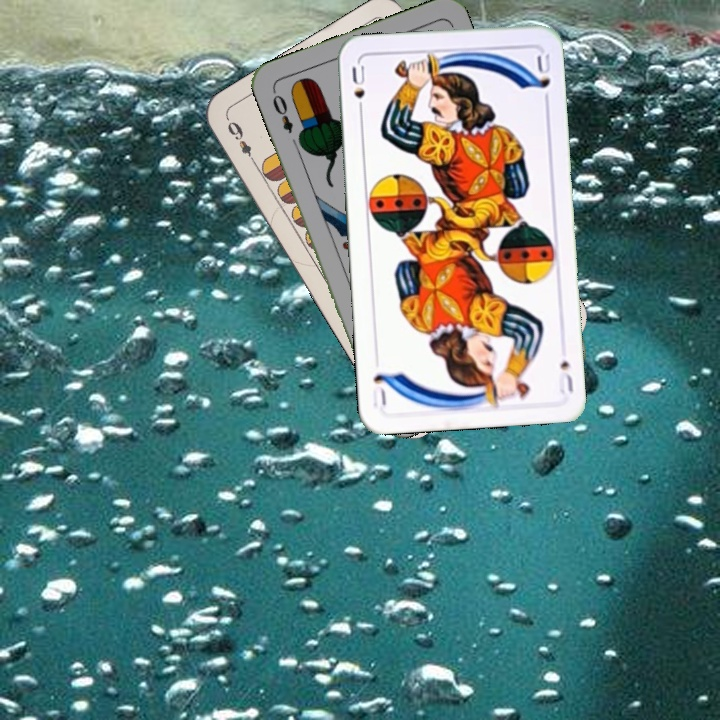E9: (223, 117, 260, 168)
EO: (268, 86, 296, 136)
SU: (348, 61, 368, 119), (554, 357, 576, 396)
